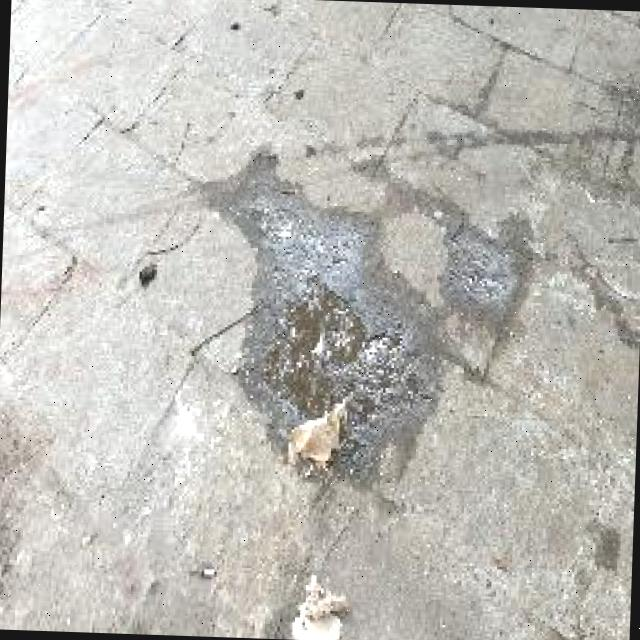waterlogging: (253, 264, 437, 426)
